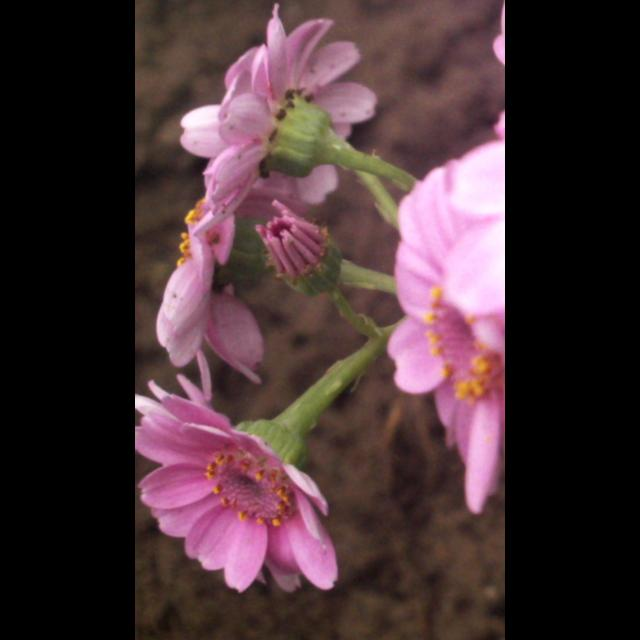Flower: (384, 137, 504, 515), (178, 2, 380, 212), (150, 399, 334, 595), (160, 199, 274, 387)
